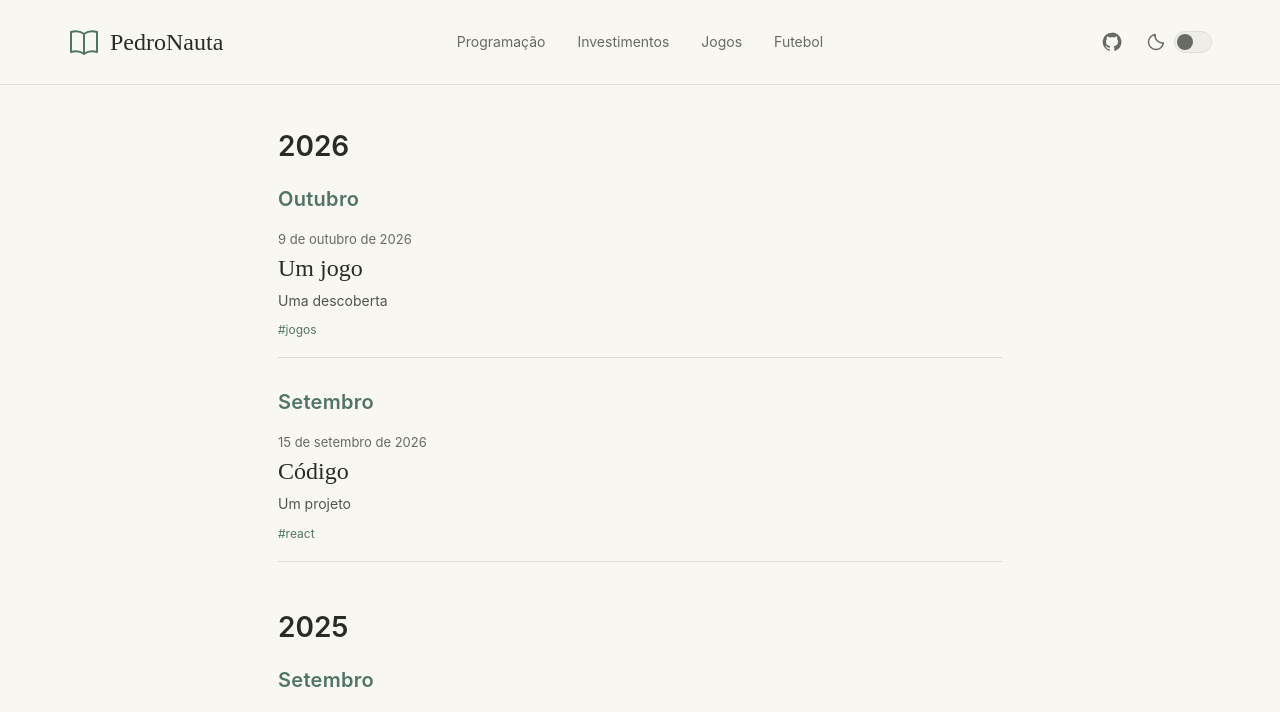
Test: abre Markdown formatado e volta preservando a seção
Click the button "Programação".
click(501, 42)  # box x1=445 y1=20 x2=557 y2=64
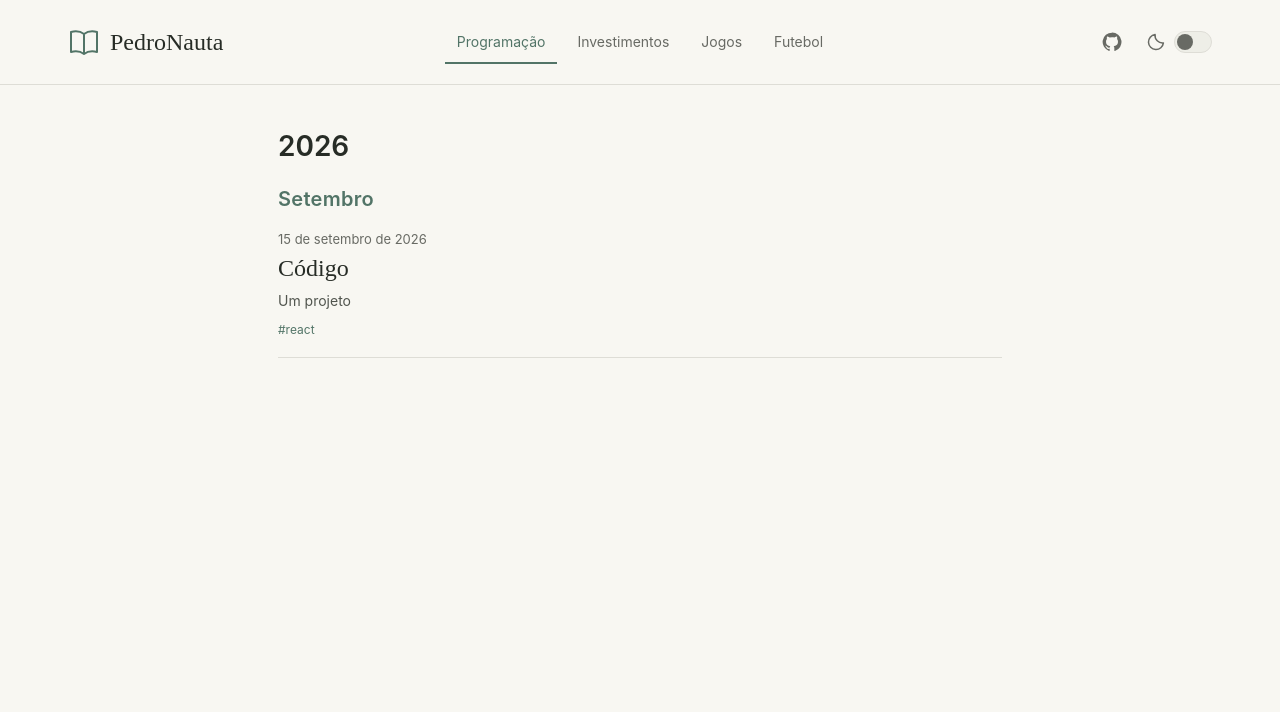
Click the link "15 de setembro de 2026 Código Um projeto #react".
click(352, 239)  # box x1=278 y1=231 x2=427 y2=337
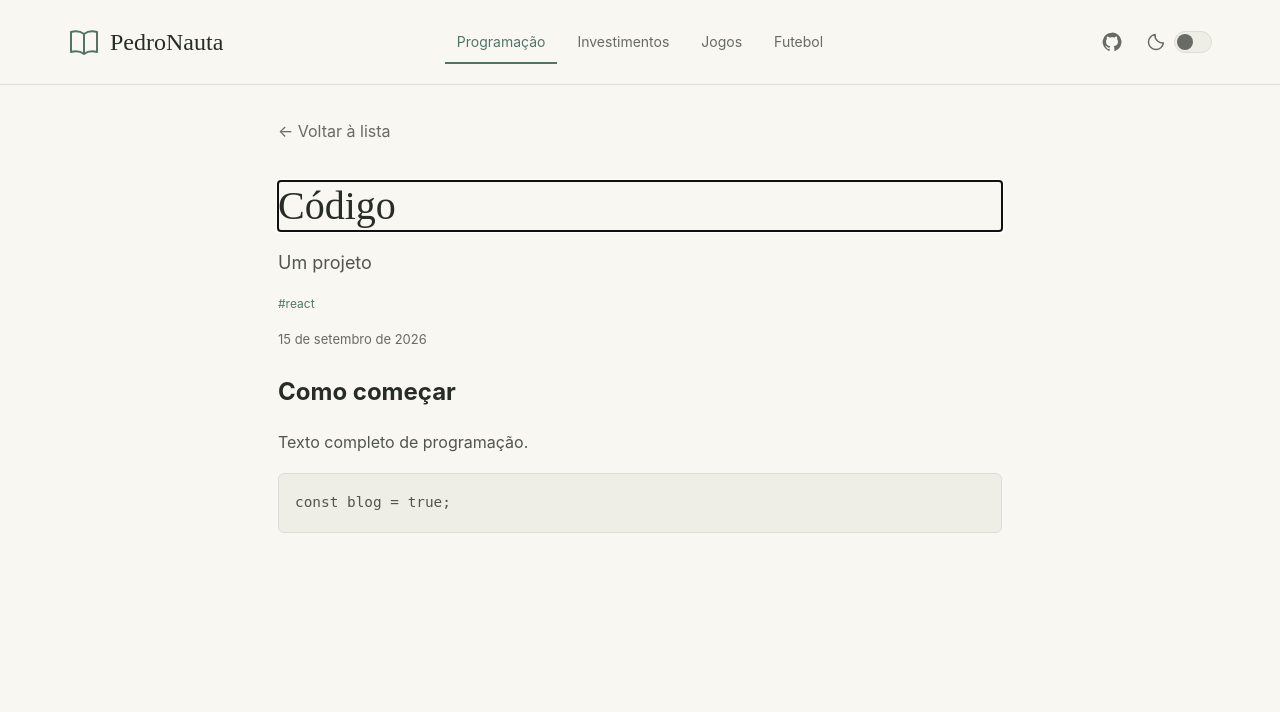
Now the text "Texto completo de programação." is shown, box x1=278 y1=432 x2=528 y2=452
Now the heading "Como começar" is shown, box x1=278 y1=377 x2=456 y2=406
Click the button "← Voltar à lista".
click(334, 131)  # box x1=278 y1=109 x2=390 y2=153
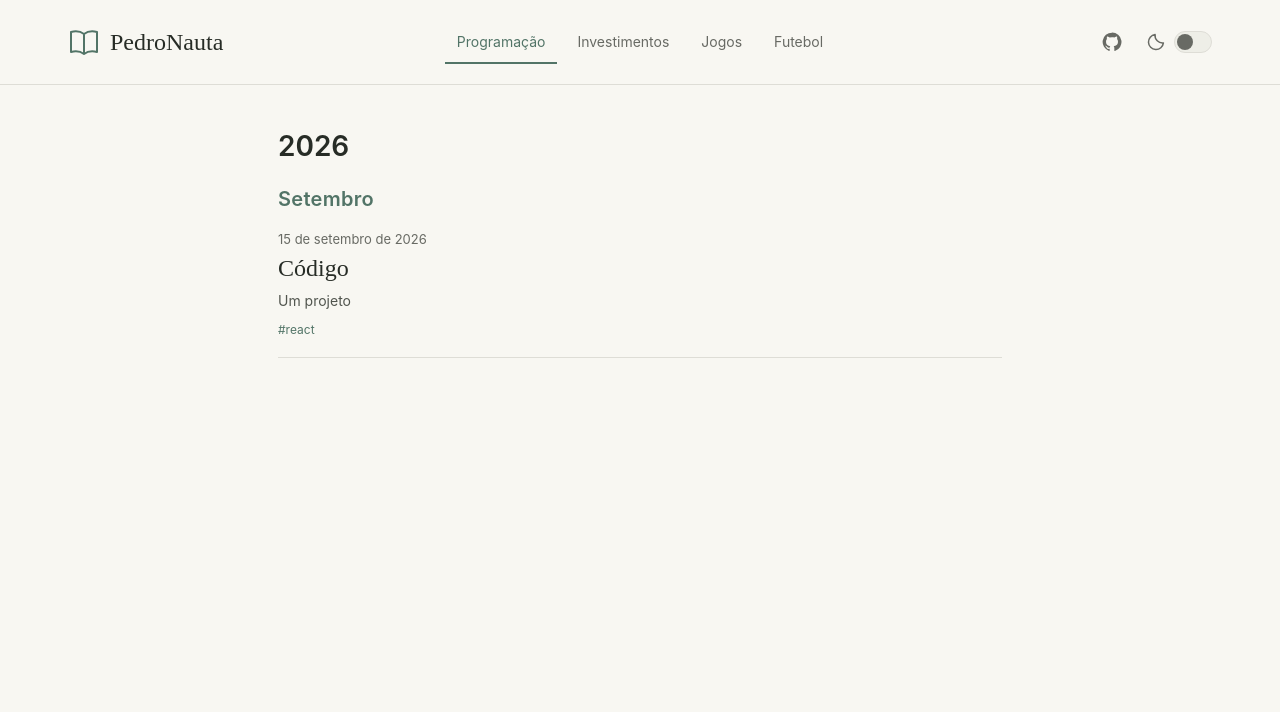
Now the text "Texto completo de programação." is gone
